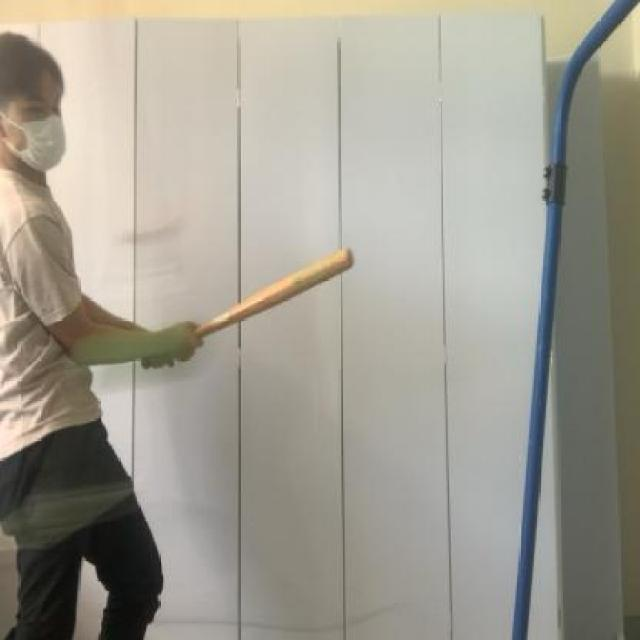baseball: (64, 309, 216, 391)
